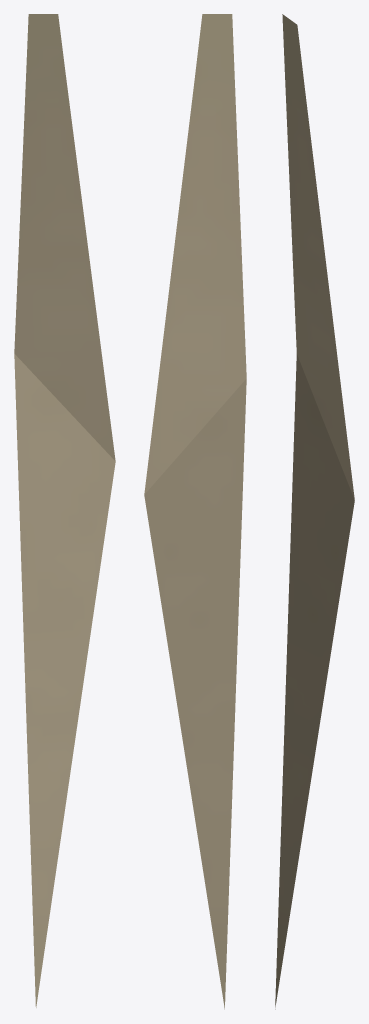
3 views of the same model, side by side, from view 1: azimuth 30°, elevation 25°; view 2: azimuth 210°, elevation 25°; view 3: azimuth 330°, elevation 25° (orthographic).
Bounding box in the file's own units: 0.0531 × 0.6304 × 0.0249.
Materials: 1 (1 with a texture image).
